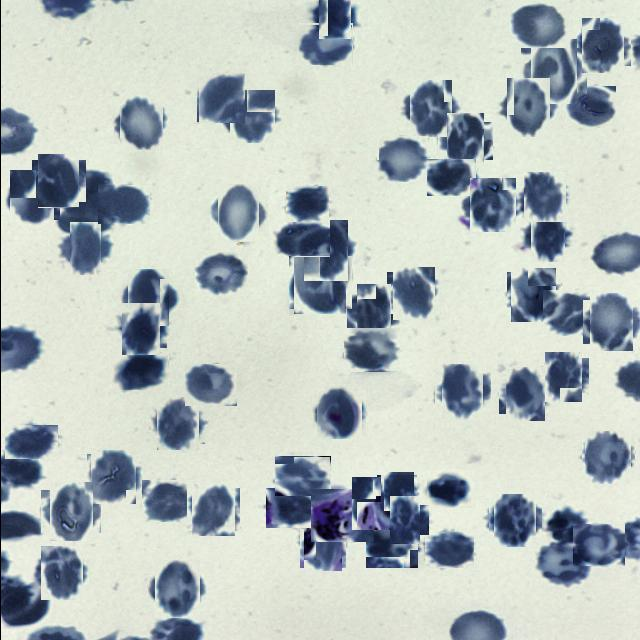difficult: (310, 489, 373, 542)
red blood cell: (290, 254, 348, 312), (525, 43, 581, 99), (298, 224, 352, 276), (508, 2, 568, 48), (150, 562, 202, 614), (502, 82, 554, 134), (44, 486, 96, 537), (585, 296, 636, 348), (535, 541, 591, 588), (542, 290, 598, 336), (193, 250, 248, 296), (313, 388, 363, 438), (406, 84, 456, 134), (212, 188, 262, 238), (88, 452, 138, 502), (508, 270, 558, 320), (582, 432, 632, 482), (116, 97, 166, 147), (466, 180, 516, 230), (226, 92, 276, 142), (6, 172, 56, 222), (376, 135, 429, 182), (343, 328, 399, 372), (438, 368, 487, 417), (197, 74, 246, 123), (578, 20, 626, 70), (122, 274, 172, 322), (365, 523, 418, 568), (36, 549, 85, 597), (153, 399, 201, 447), (188, 486, 236, 534), (389, 269, 437, 317), (34, 157, 82, 205), (298, 24, 352, 66), (491, 496, 538, 544), (274, 456, 330, 496), (141, 480, 194, 522), (562, 86, 615, 128), (348, 480, 395, 527), (502, 370, 548, 418), (184, 364, 236, 406), (572, 524, 624, 566), (441, 118, 488, 164), (520, 174, 566, 220), (116, 306, 162, 352), (272, 220, 329, 257), (113, 352, 168, 390), (265, 488, 317, 528), (97, 185, 149, 224), (351, 289, 396, 334), (541, 355, 585, 399), (426, 158, 476, 196), (4, 424, 58, 459), (426, 470, 474, 508), (525, 216, 568, 258), (301, 528, 343, 570), (424, 532, 473, 568), (64, 228, 105, 270), (545, 507, 588, 545), (384, 500, 424, 540), (285, 186, 328, 222), (314, 0, 354, 35), (378, 474, 414, 509)
